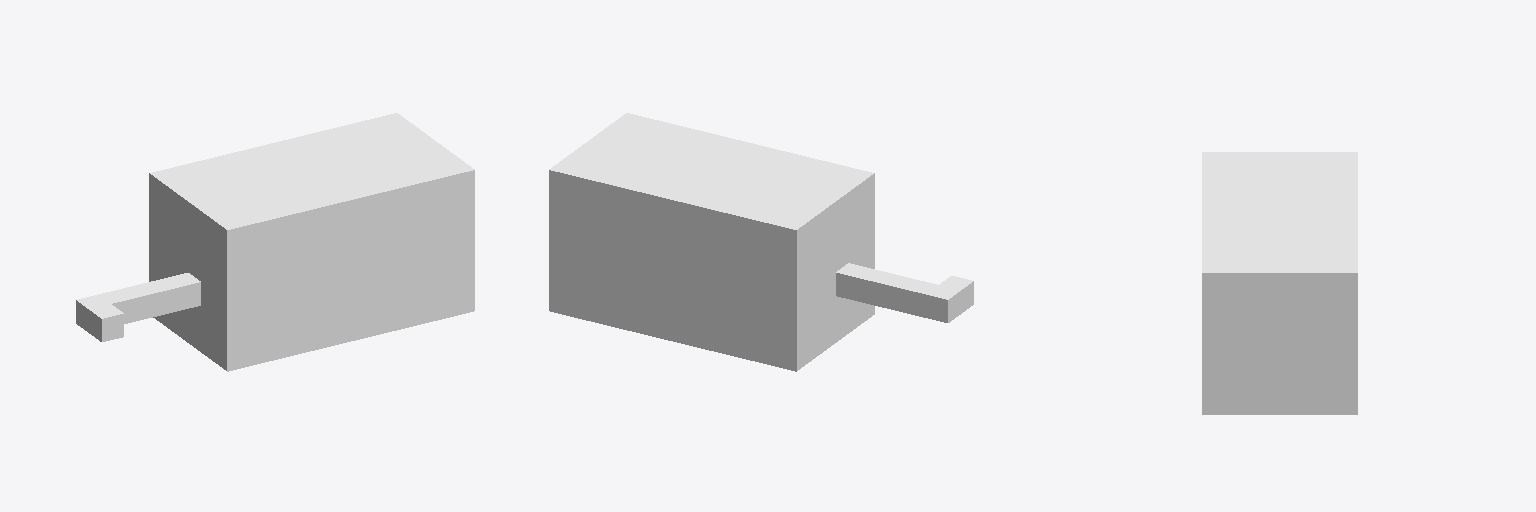
File: juice_2.obj
3 renders of one model, left to right at view 1: azimuth 30°, elevation 25°; view 2: azimuth 150°, elevation 25°; view 3: azimuth 270°, elevation 25°, orthographic.
Parts seen in each view (by area): view 1: object 1; view 2: object 1; view 3: object 1.
Part boxes in pixels (x1,y1,x2,y2): object 1: (76,113,474,371); object 1: (549,113,973,371); object 1: (1202,152,1357,414).
Bounding box in the file's own units: 1.6 × 0.6 × 0.6.